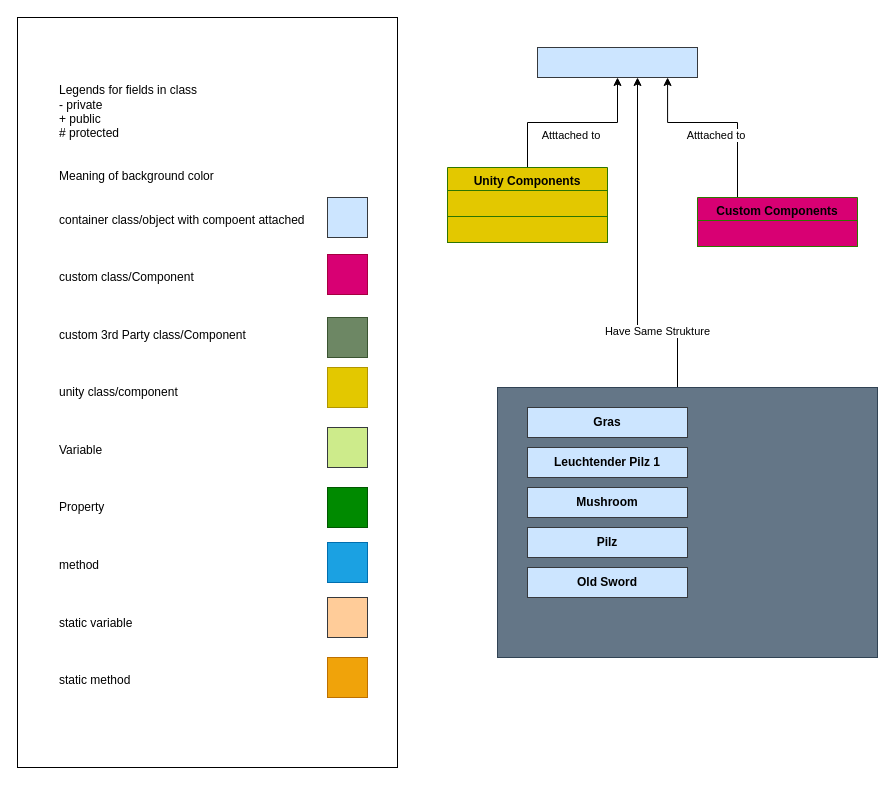
Image size: 895x793. Some labels were removed from this diagram. The shapes that lost their labels are listed below. From the top down, each one's box as (x1, y1, x2, y2) in pixels, then its label:
(536, 46, 698, 78): Prefab
(446, 190, 608, 216): Transfrom
(446, 216, 608, 242): Sprite Renderer
(696, 220, 858, 246): Position Renderer Sorter
